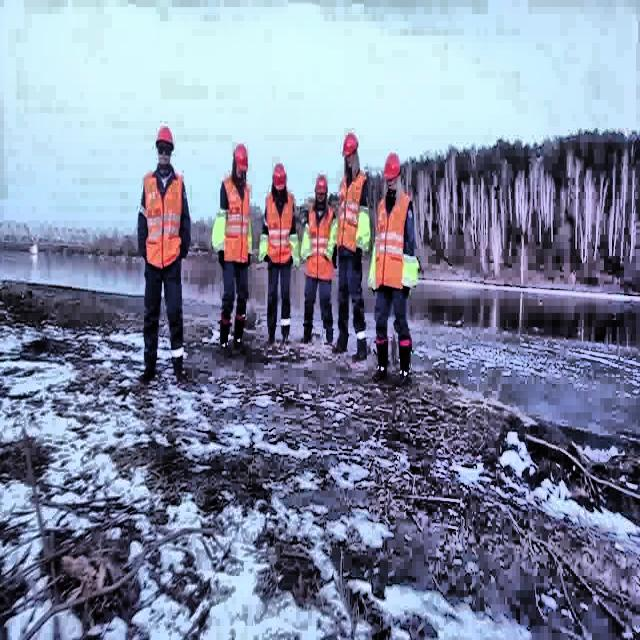safety_helmet: (143, 169, 183, 270), (231, 143, 249, 172), (343, 130, 359, 162), (272, 160, 289, 190), (385, 149, 402, 178), (157, 123, 174, 149), (316, 174, 330, 195)
safety_jacket: (373, 191, 411, 289), (335, 173, 369, 255), (263, 192, 294, 266), (223, 182, 249, 264), (306, 203, 334, 277), (212, 207, 228, 252), (357, 193, 369, 252), (402, 251, 416, 292), (326, 217, 337, 263), (367, 247, 377, 293), (300, 227, 310, 266), (260, 232, 268, 264), (291, 230, 299, 260)
